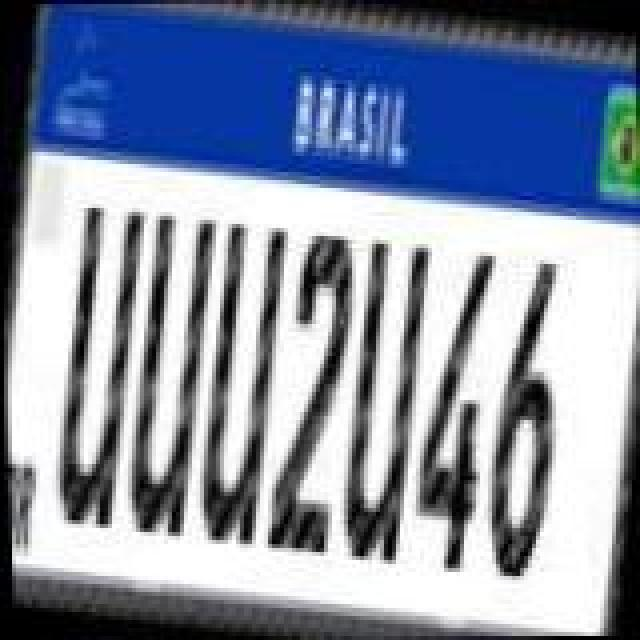2: (252, 224, 368, 560)
4: (398, 240, 510, 572)
6: (468, 250, 584, 582)
U: (180, 218, 296, 554), (38, 198, 154, 530), (114, 210, 226, 546), (326, 236, 438, 572)
